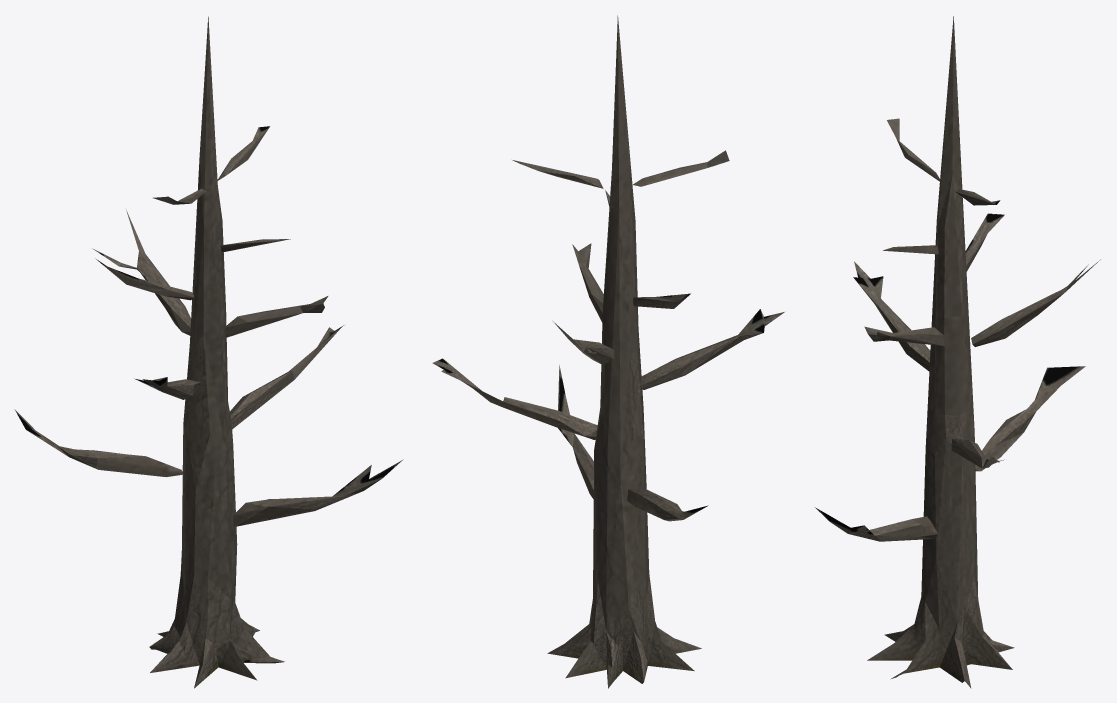
The picture shows the model from 3 angles, left to right: view 1: azimuth 30°, elevation 25°; view 2: azimuth 150°, elevation 25°; view 3: azimuth 270°, elevation 25°; orthographic projection.
Parts seen in each view (by area): view 1: output_unwrapped; view 2: output_unwrapped; view 3: output_unwrapped.
Boxes of the visible parts, x1,y1,x2,y2 form: output_unwrapped: [14, 16, 403, 688]; output_unwrapped: [432, 15, 784, 688]; output_unwrapped: [815, 16, 1100, 688].
Size of the model in its own units: 0.4718 by 0.9701 by 0.3931.
Materials: 1 (1 with a texture image).
